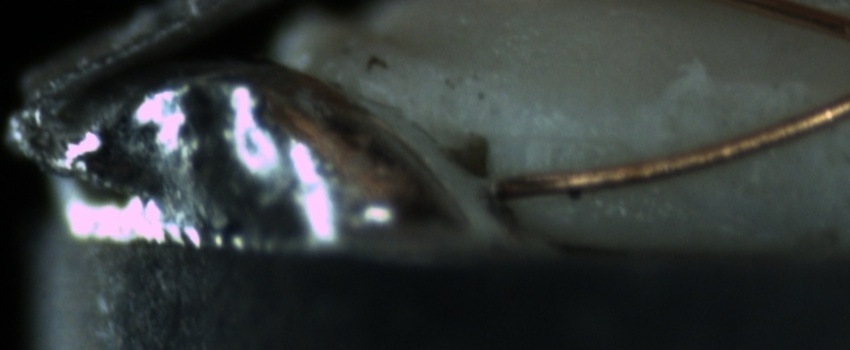DL: (511, 108, 649, 167)
